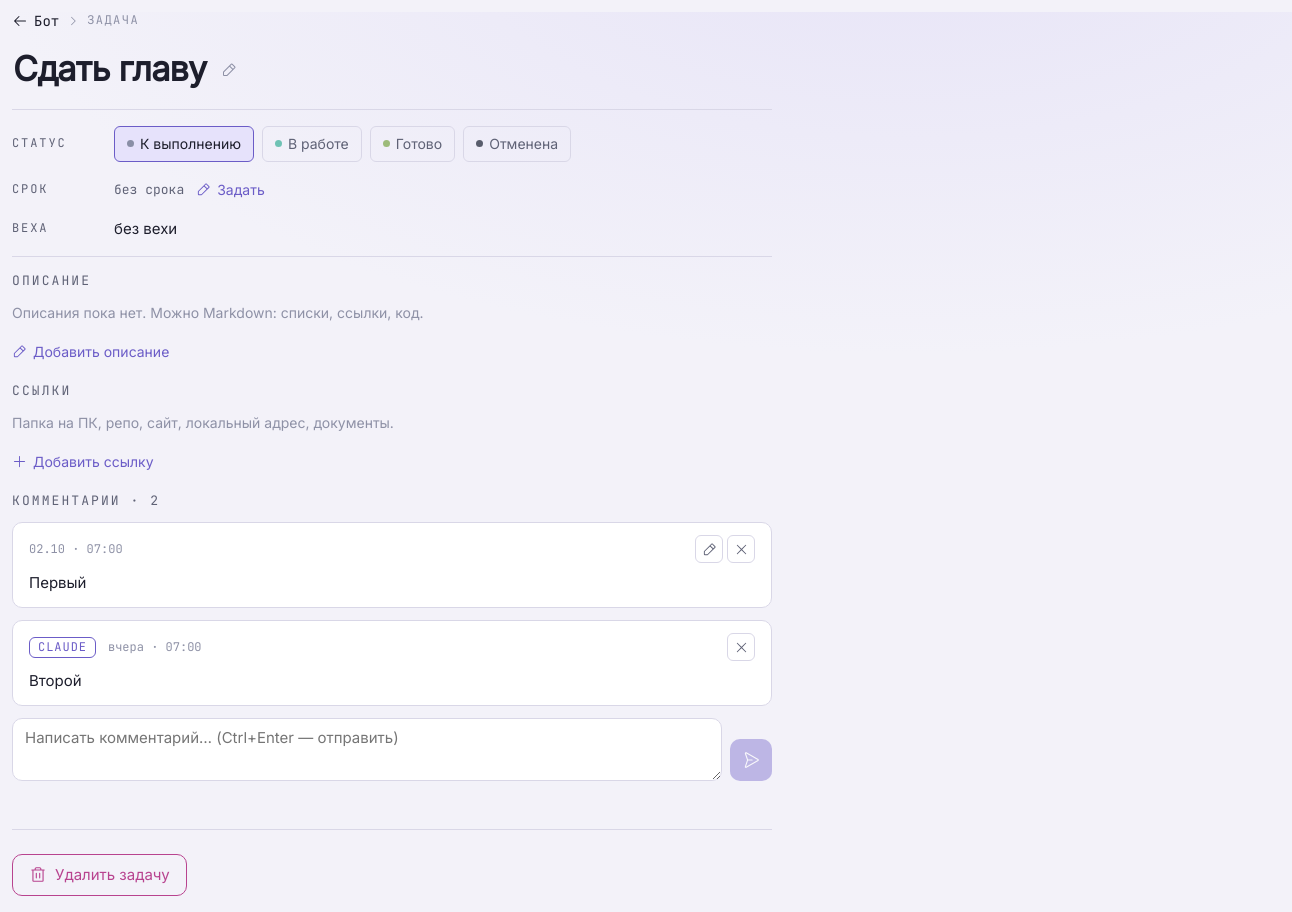
Scenario: статус задачи и лог › ошибка сохранения статуса показывается
Click the button "В работе" at (312, 144), box [262,126,362,162]
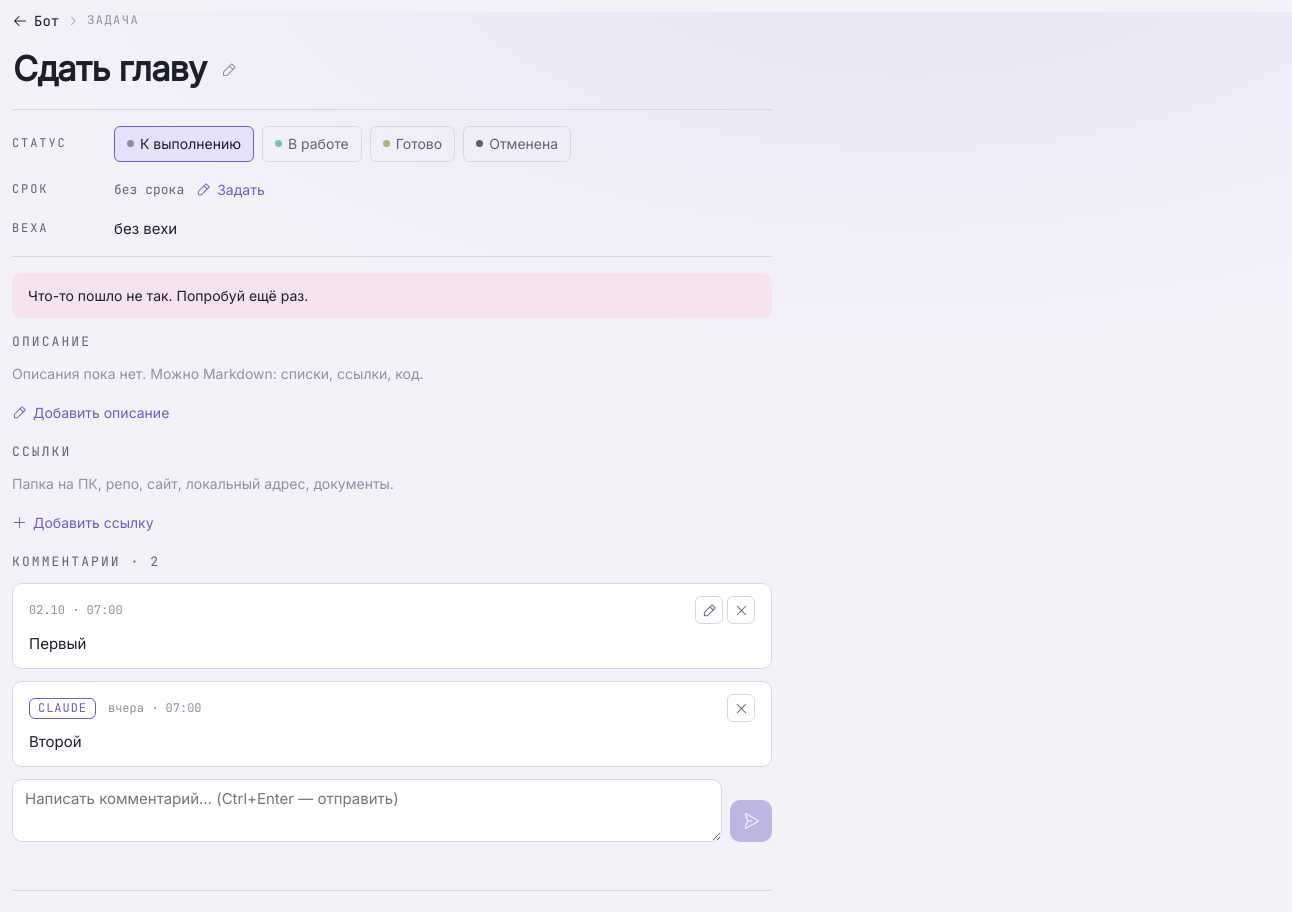
Now the message "Что-то пошло не так. Попробуй ещё раз." is shown, box [12,274,772,318]
